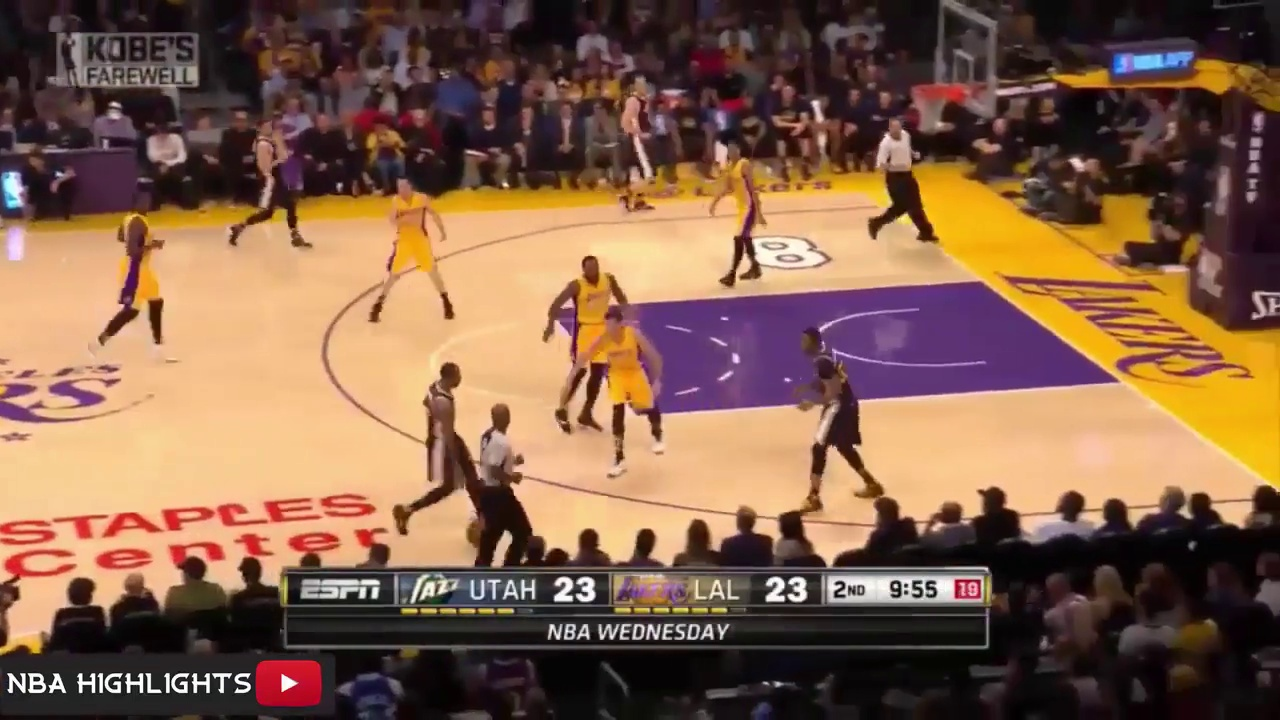jazz: (783, 326, 897, 508), (396, 358, 483, 537), (232, 120, 327, 254), (623, 77, 659, 212)
lakers: (97, 190, 185, 373), (584, 312, 677, 473), (543, 251, 614, 424), (378, 178, 452, 319), (706, 142, 767, 285)
